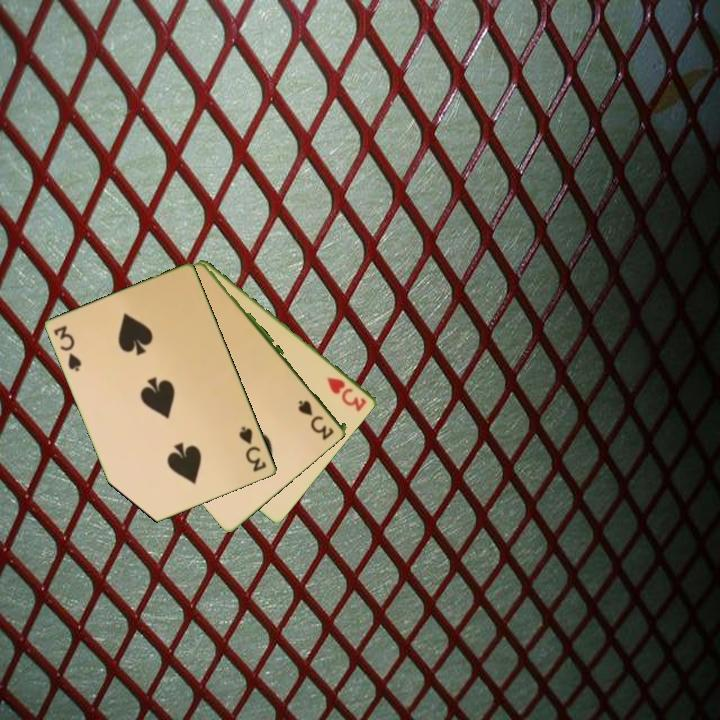3h: (324, 374, 370, 415)
3s: (295, 396, 338, 441), (50, 322, 85, 375), (236, 423, 270, 475)
